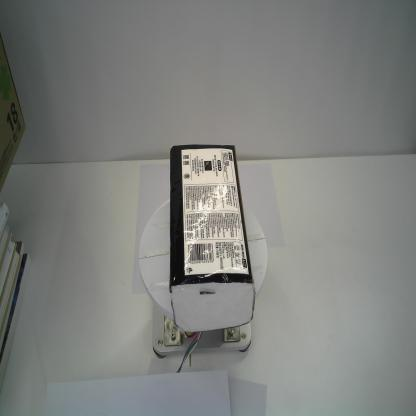Tissue: (168, 140, 257, 334)
